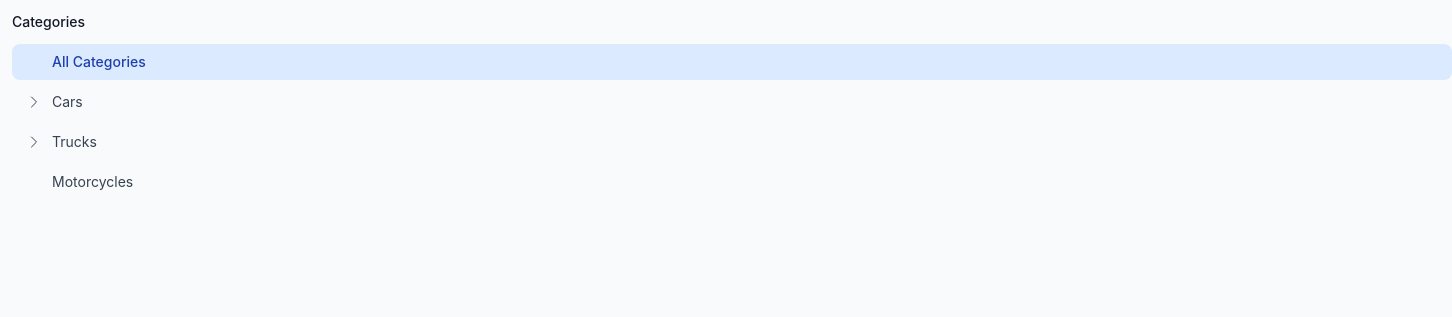
Test: CategoryBrowser › handles categories with multiple nesting levels
# Expand Cars
What coordinates should you click on to do the following:
click the button without text next to "Cars"
I would click on:
 (34, 102)
Its box is [24,92,44,112].
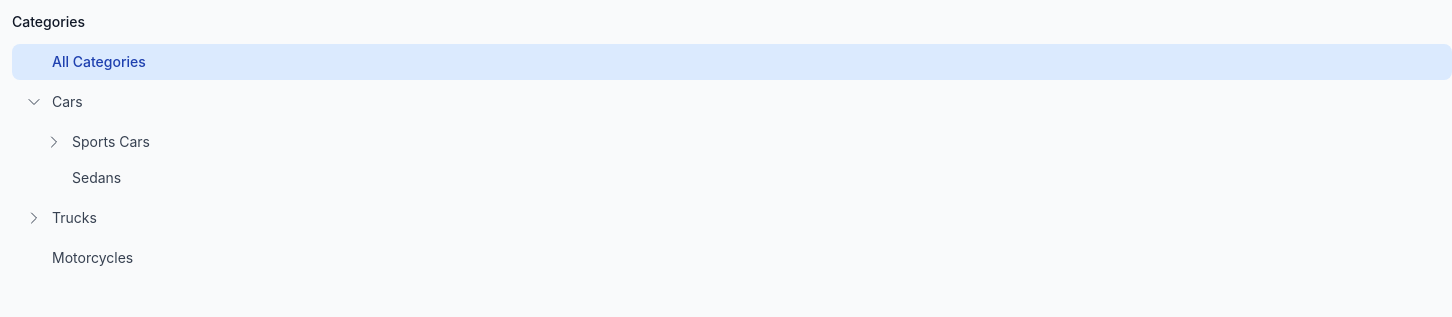
# Expand Sports Cars
What coordinates should you click on to do the following:
click the button without text next to "Sports Cars"
I would click on:
 (54, 142)
Its box is [44,132,64,152].
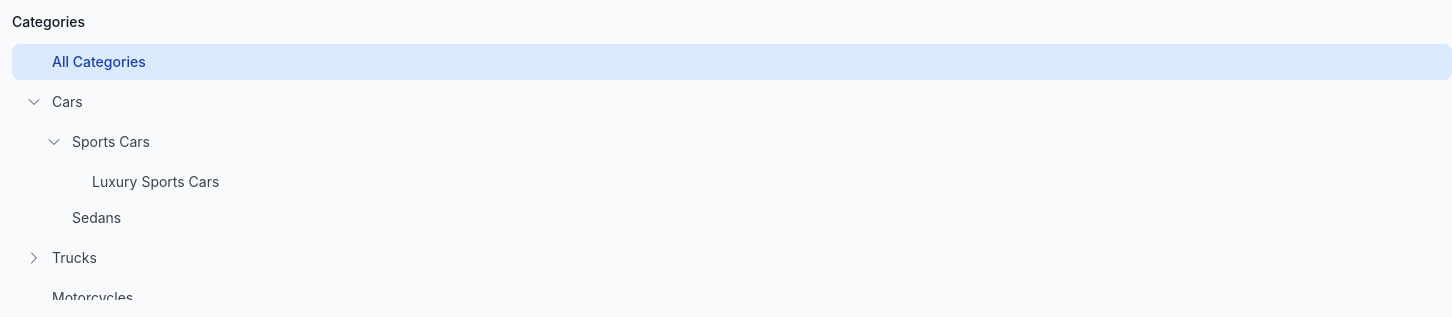
expect the text "Luxury Sports Cars" is shown: met, box [92,173,219,190]
